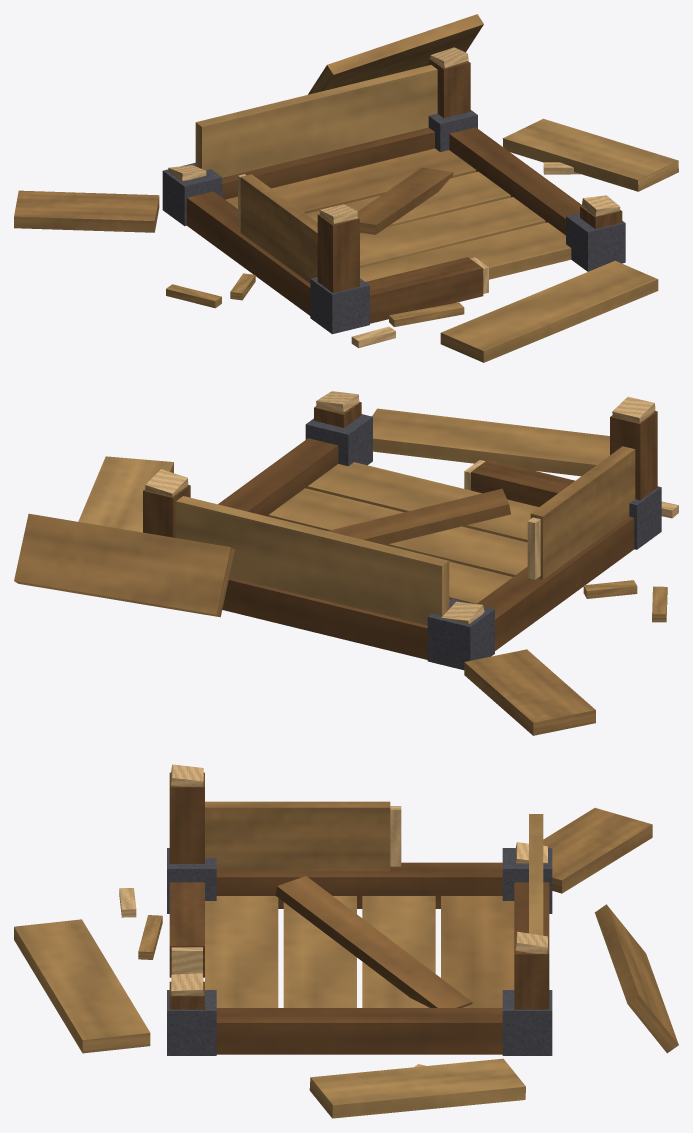
File: crate_broken.glb
The picture shows the model from 3 angles, top to bottom: view 1: azimuth 30°, elevation 25°; view 2: azimuth 150°, elevation 25°; view 3: azimuth 270°, elevation 25°; orthographic projection. The views are drawn at different scales.
Parts seen in each view (by area): view 1: prop_crate_broken; view 2: prop_crate_broken; view 3: prop_crate_broken.
Boxes of the visible parts, <box> form: prop_crate_broken: <box>14,14,678,362</box>; prop_crate_broken: <box>14,391,678,735</box>; prop_crate_broken: <box>14,764,678,1118</box>.
Bounding box in the file's own units: 2.47 × 0.5014 × 2.28.
1 material, 1 textured.
